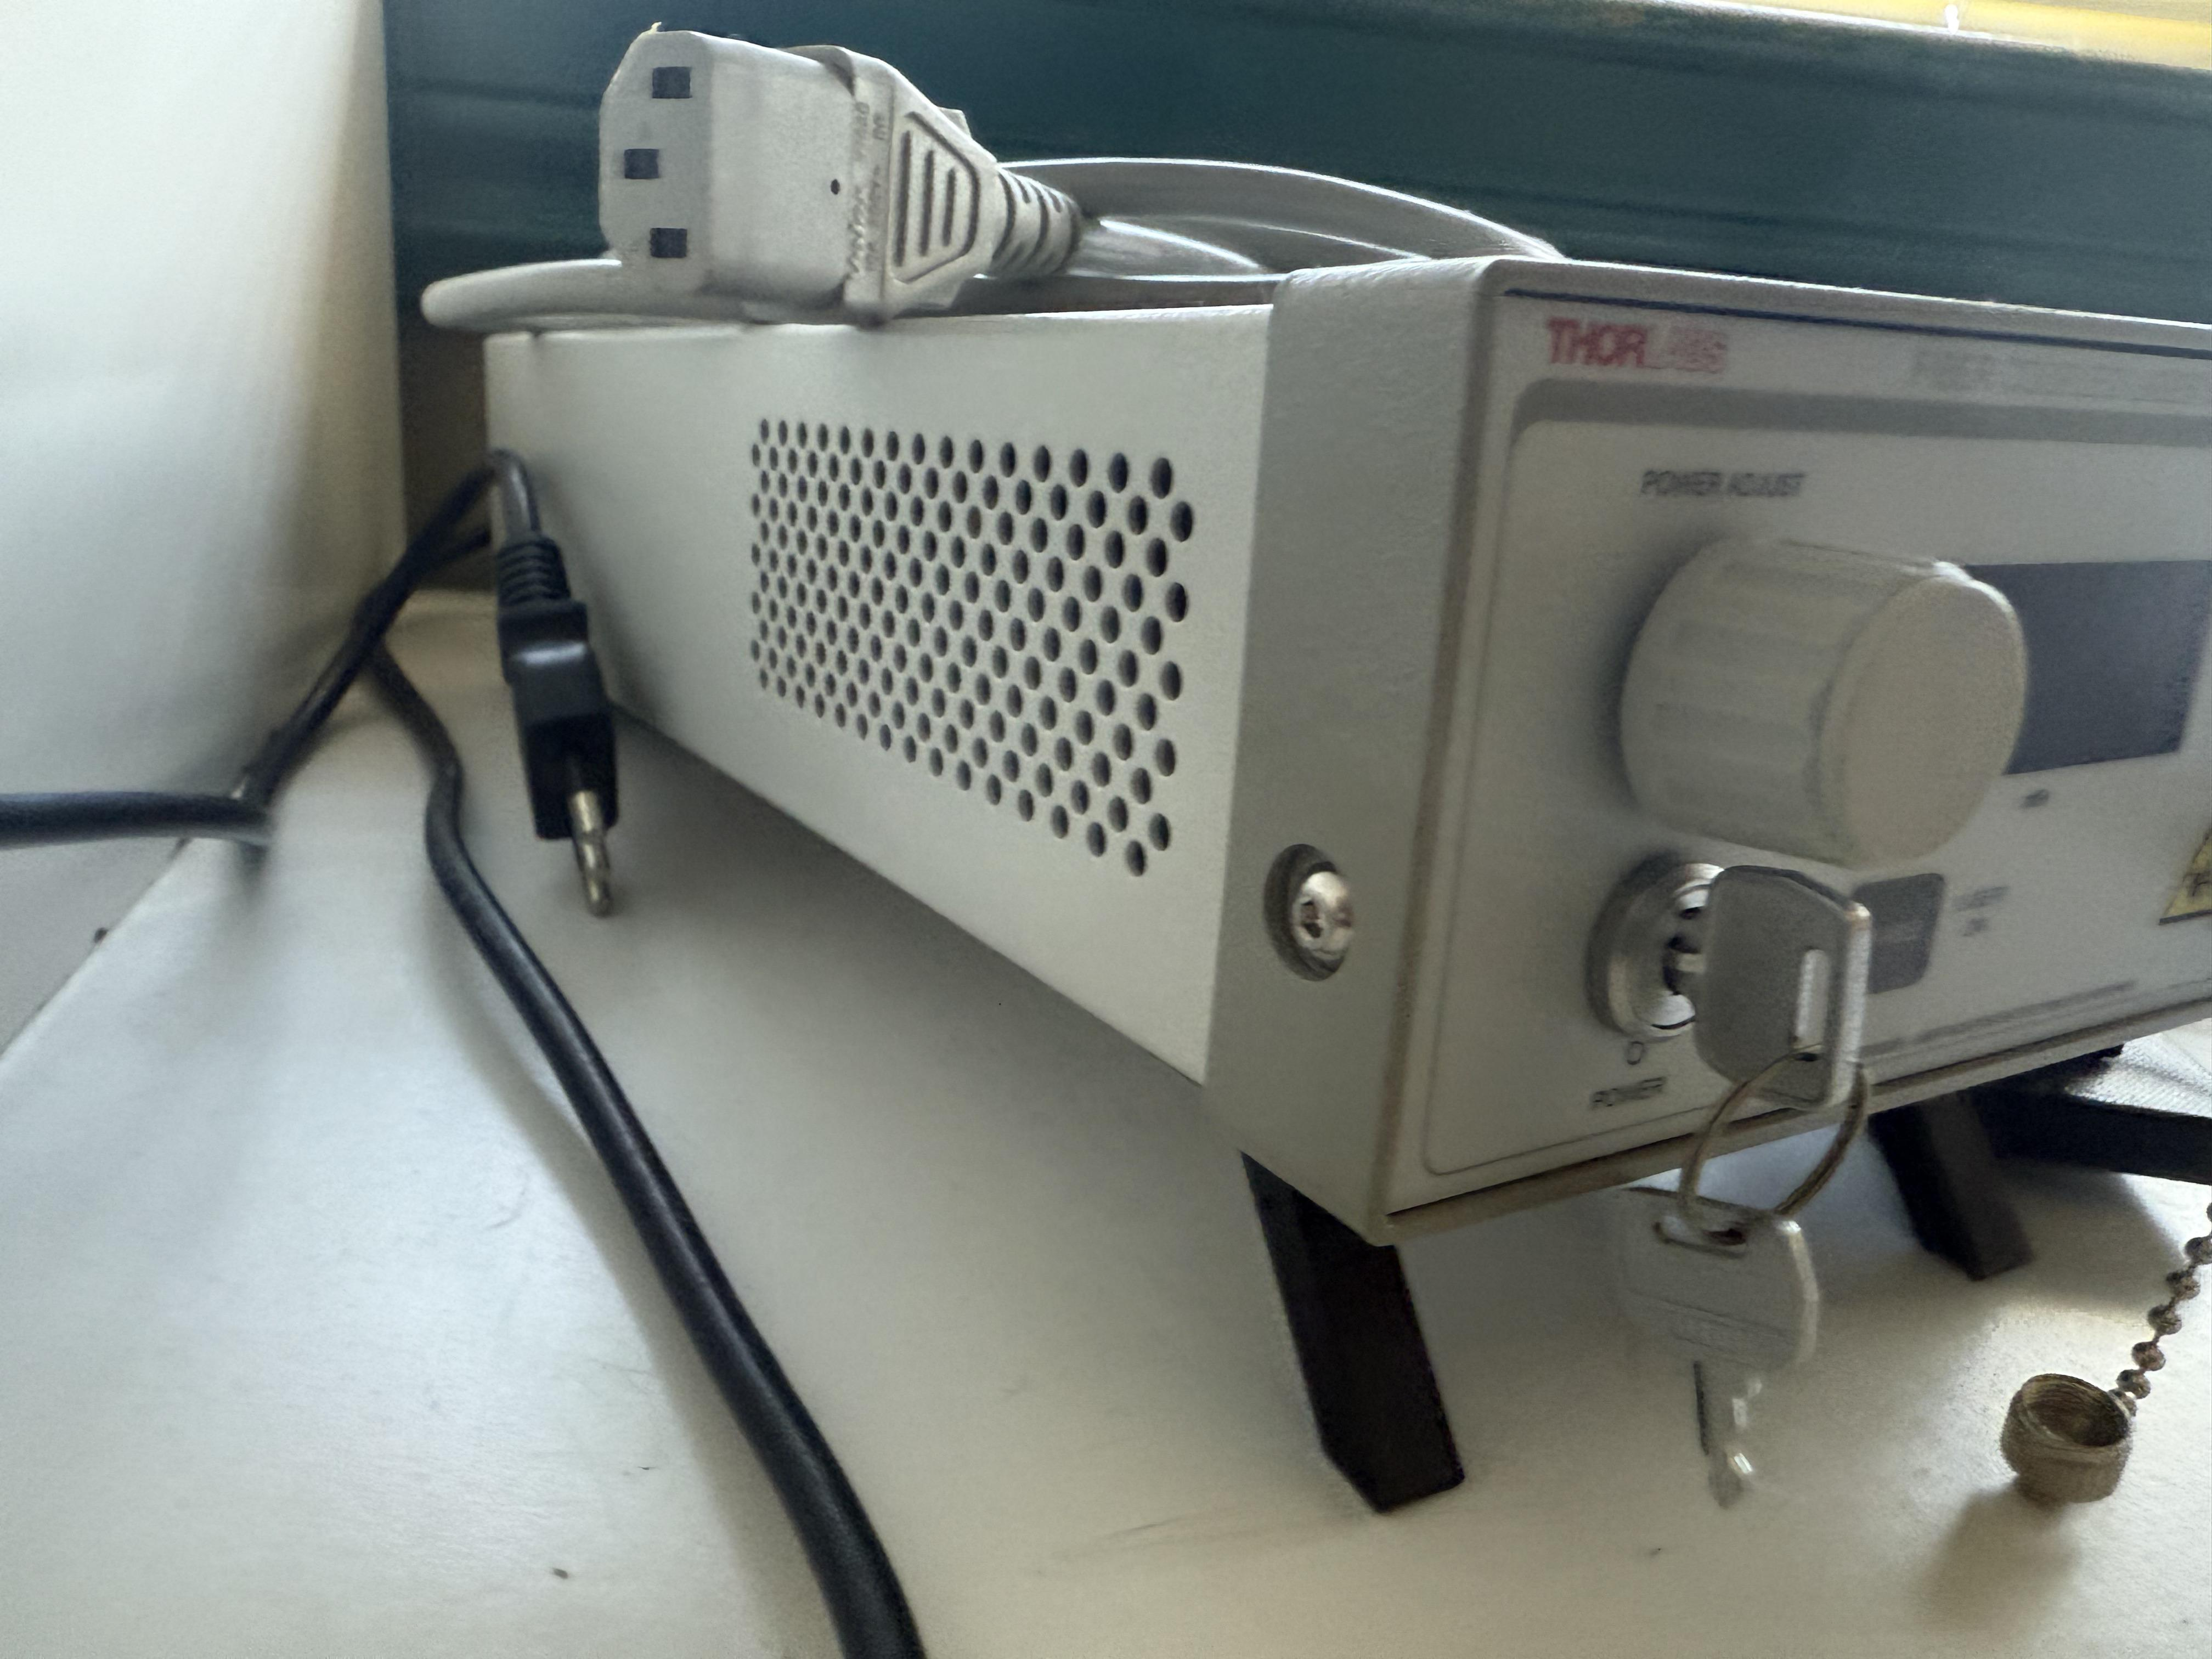laser: (469, 241, 2212, 1509)
